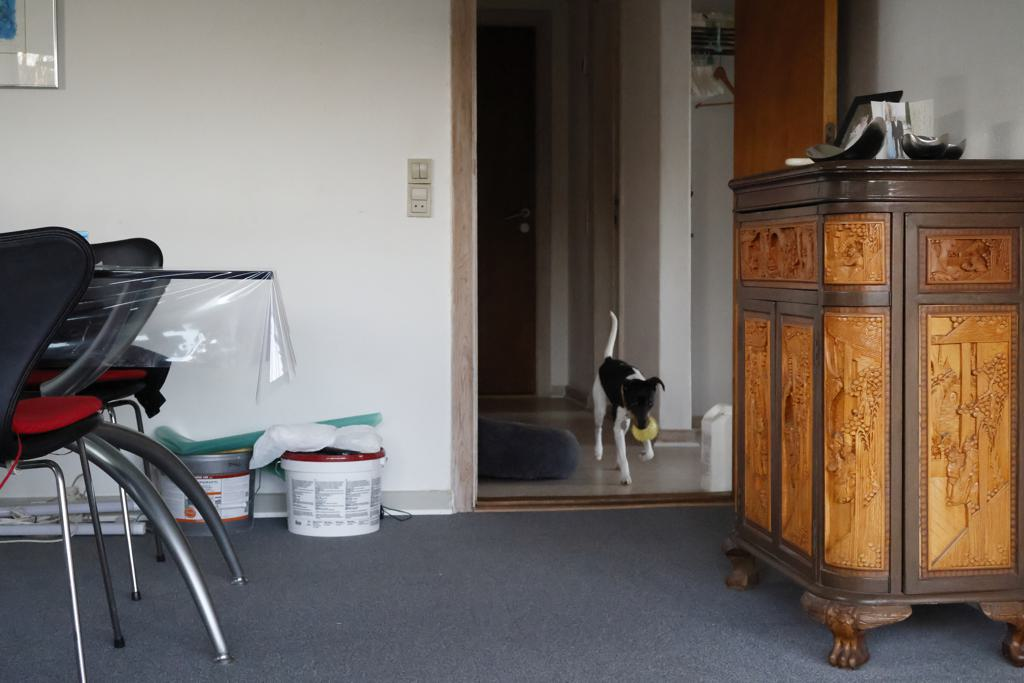Dog: (579, 304, 672, 491)
